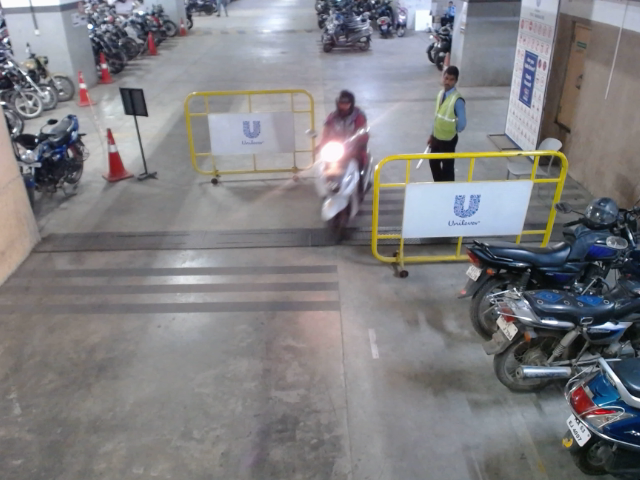with_helmet: (333, 89, 356, 117)
